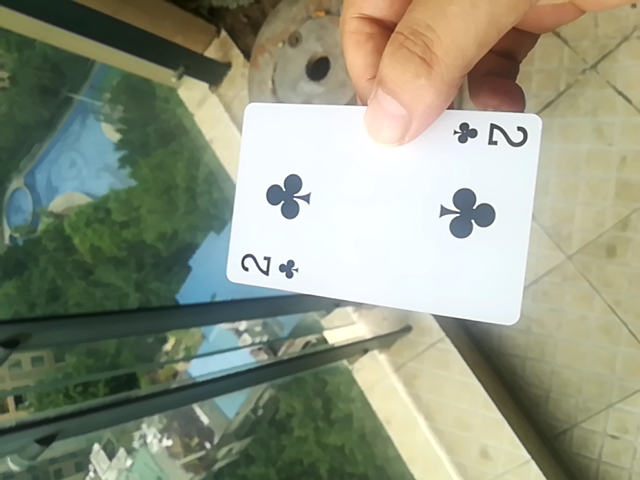mh 2: (221, 98, 547, 327)
